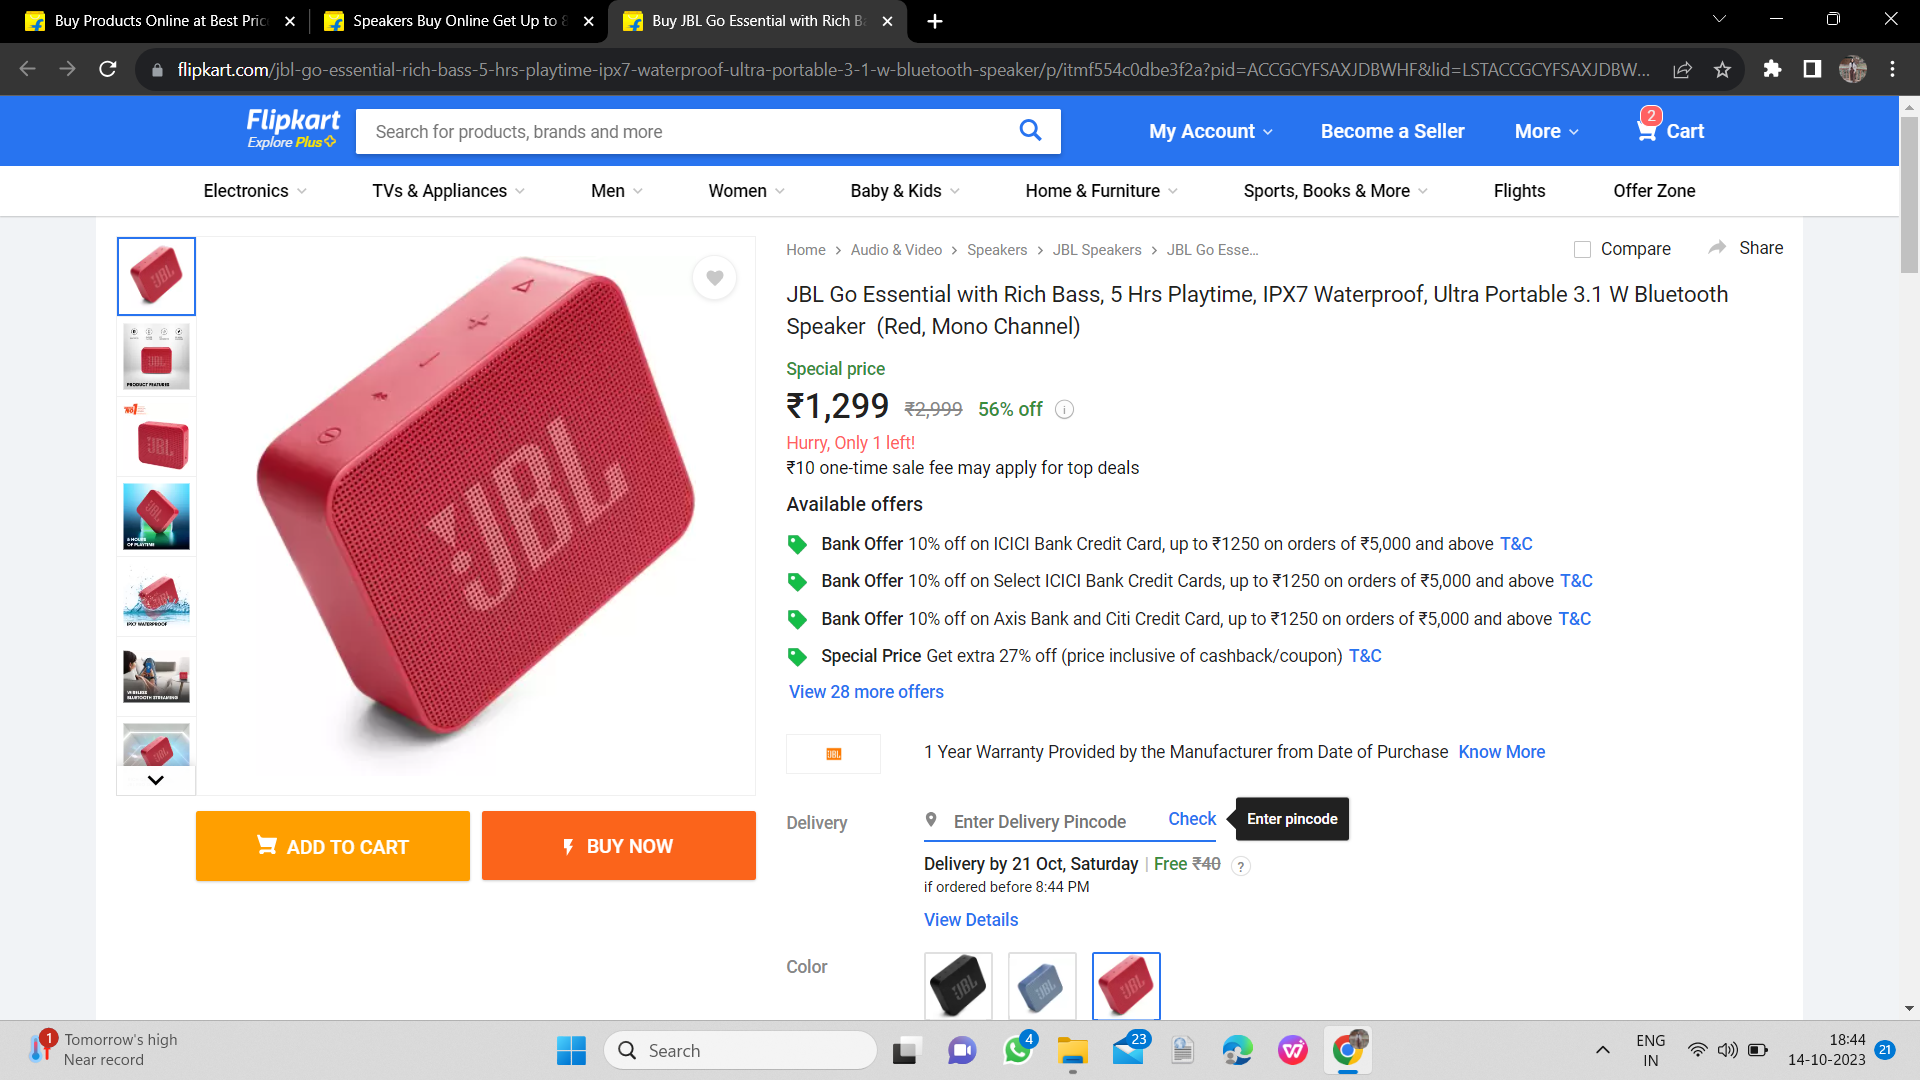Image: (211, 251, 756, 746), (342, 99, 1097, 162), (897, 927, 1183, 1019)
Paragraph: (785, 535, 1611, 703), (773, 274, 1743, 340), (783, 798, 1378, 893), (183, 804, 764, 893), (777, 359, 1159, 477), (796, 737, 1560, 767), (1312, 95, 1478, 156), (1141, 105, 1283, 149), (1621, 104, 1720, 146), (783, 492, 930, 509), (783, 942, 844, 982), (1514, 112, 1588, 140)
